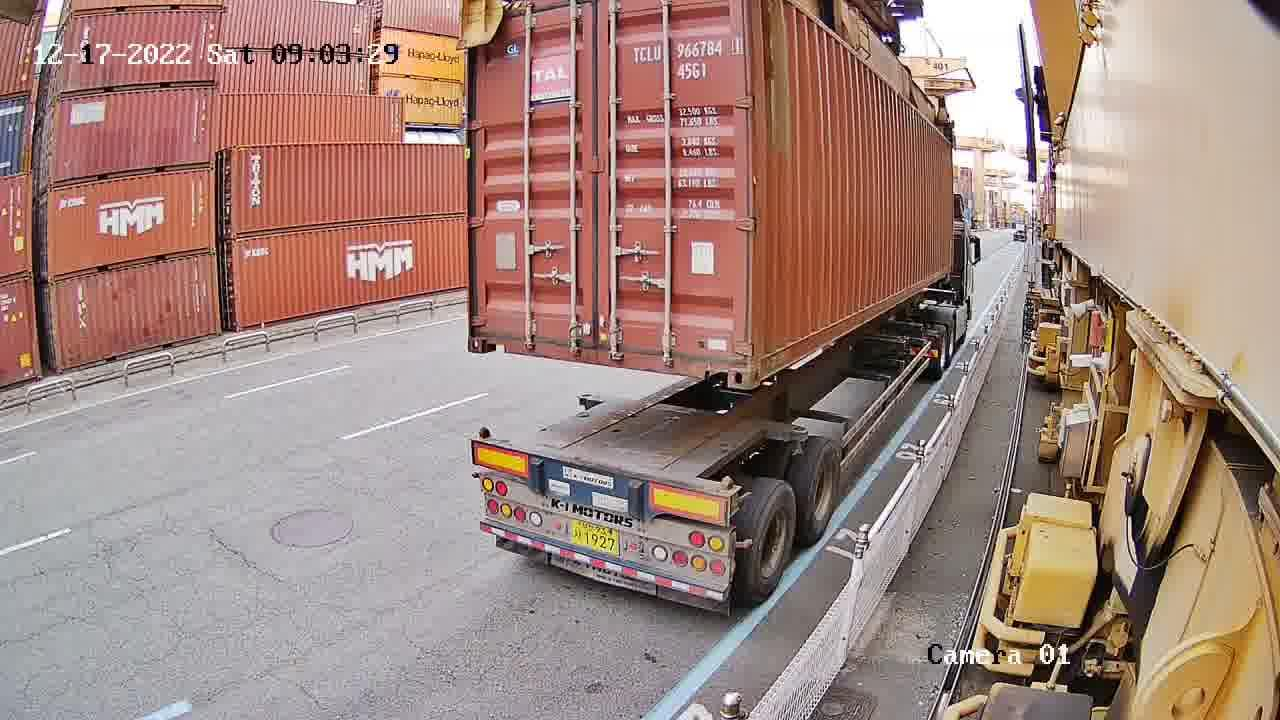Chassis: (471, 439, 733, 528)
Container: (467, 317, 751, 389)
Hole_L: (466, 316, 500, 354)
Hole_R: (714, 343, 753, 387)
Tire: (744, 483, 795, 600), (805, 441, 844, 543)
